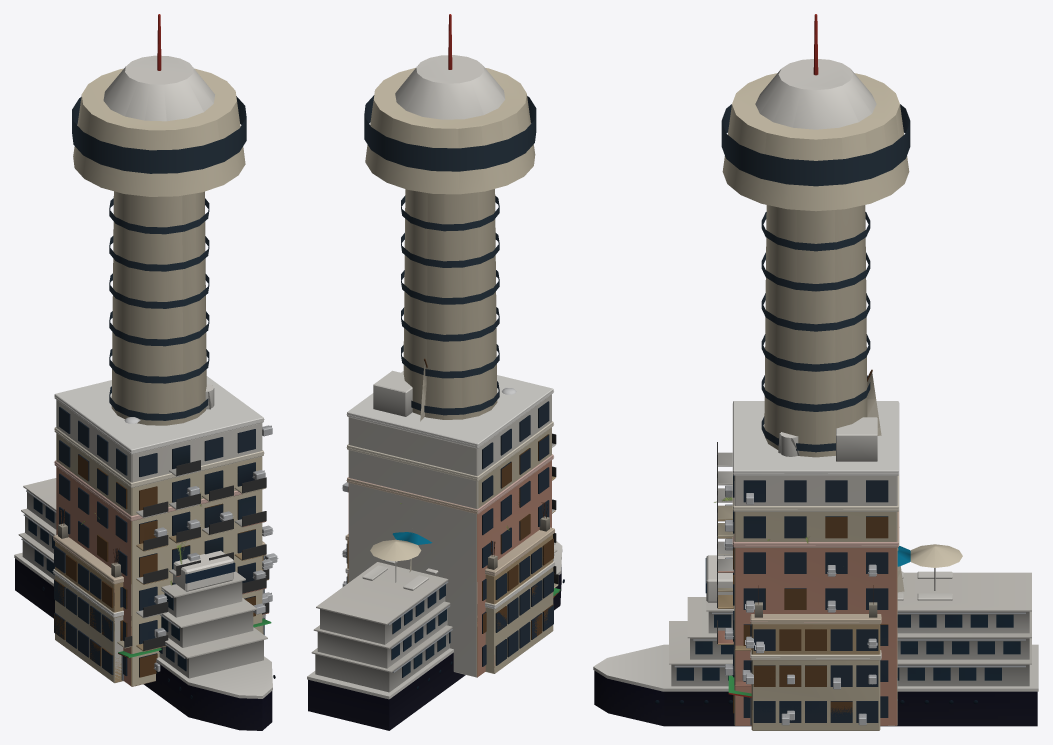
The model's file is props.glb.
The picture shows the model from 3 angles, left to right: view 1: azimuth 30°, elevation 25°; view 2: azimuth 150°, elevation 25°; view 3: azimuth 270°, elevation 25°; orthographic projection. The views are drawn at different scales.
Parts seen in each view (by area): view 1: tower, cruise, block_2, block_0, block_5, block_1, block_3, block_4, block_6; view 2: tower, block_2, cruise, block_3, block_4, block_5, block_0, block_1, block_6; view 3: tower, cruise, block_2, block_3, block_5, block_0, block_4, block_6, block_1.
Part boxes in pixels (x1,y1,x2,y2): tower: (72,14,246,425); cruise: (14,478,275,730); block_2: (54,376,272,671); block_0: (54,427,266,686); block_5: (53,509,269,682); block_1: (59,473,272,686); block_3: (54,460,272,685); block_4: (53,569,264,682); block_6: (53,570,271,680); tower: (364,14,536,419); block_2: (342,370,556,677); cruise: (307,532,564,730); block_3: (342,454,553,677); block_4: (346,561,558,673); block_5: (345,502,559,664); block_0: (347,421,553,676); block_1: (343,466,556,666); block_6: (345,562,560,665); tower: (721,14,910,457); cruise: (593,544,1038,726); block_2: (717,401,898,720); block_3: (717,504,898,725); block_5: (728,587,881,729); block_0: (717,475,898,725); block_4: (750,650,881,730); block_6: (728,651,881,722); block_1: (717,511,898,724).
Bounding box in the file's own units: 9.02 × 32.66 × 19.09.
Materials: 4 (3 with a texture image).
